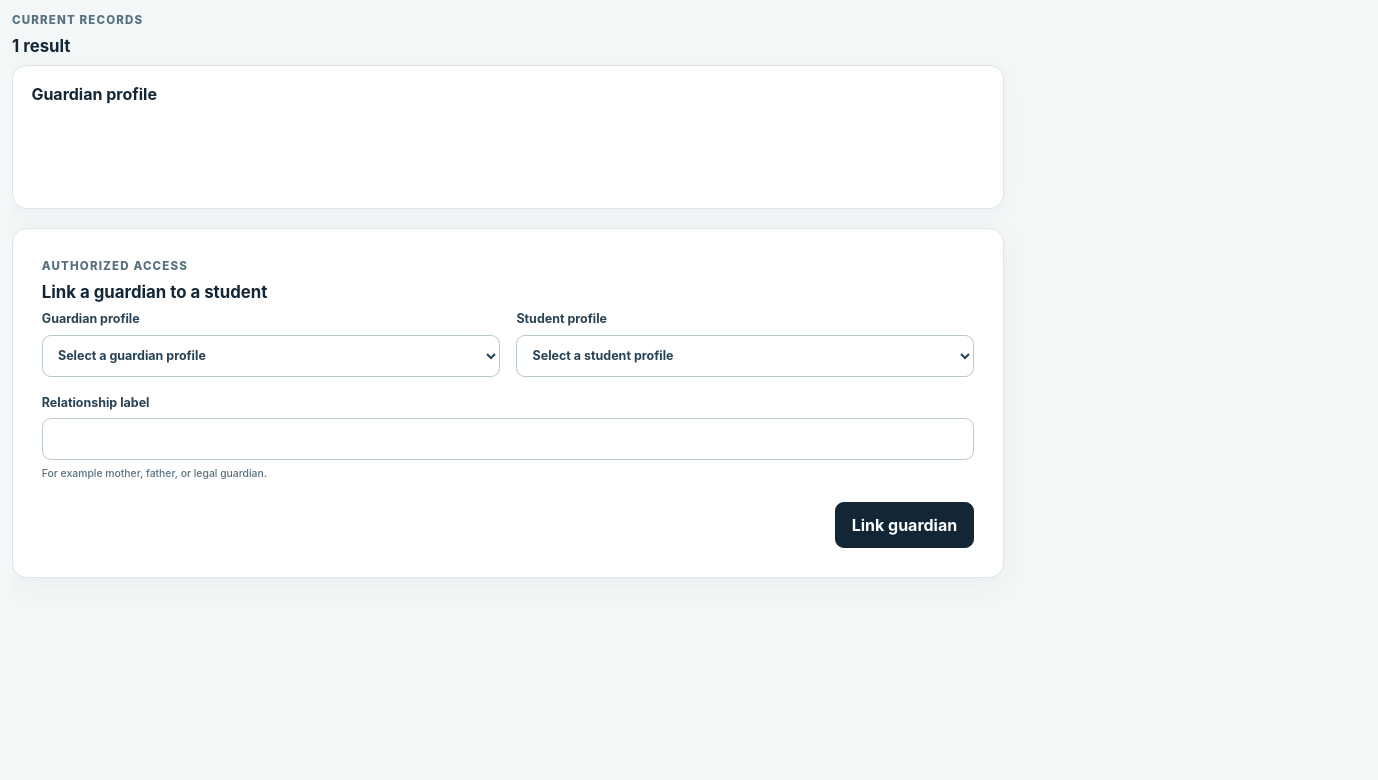
Test case: GuardianAdministration › links a guardian profile to a student profile
The image size is (1378, 780).
Select "Guardian profile · guardian" in the dropdown labelled "Guardian profile" at (271, 356), box [42,334,500,377]
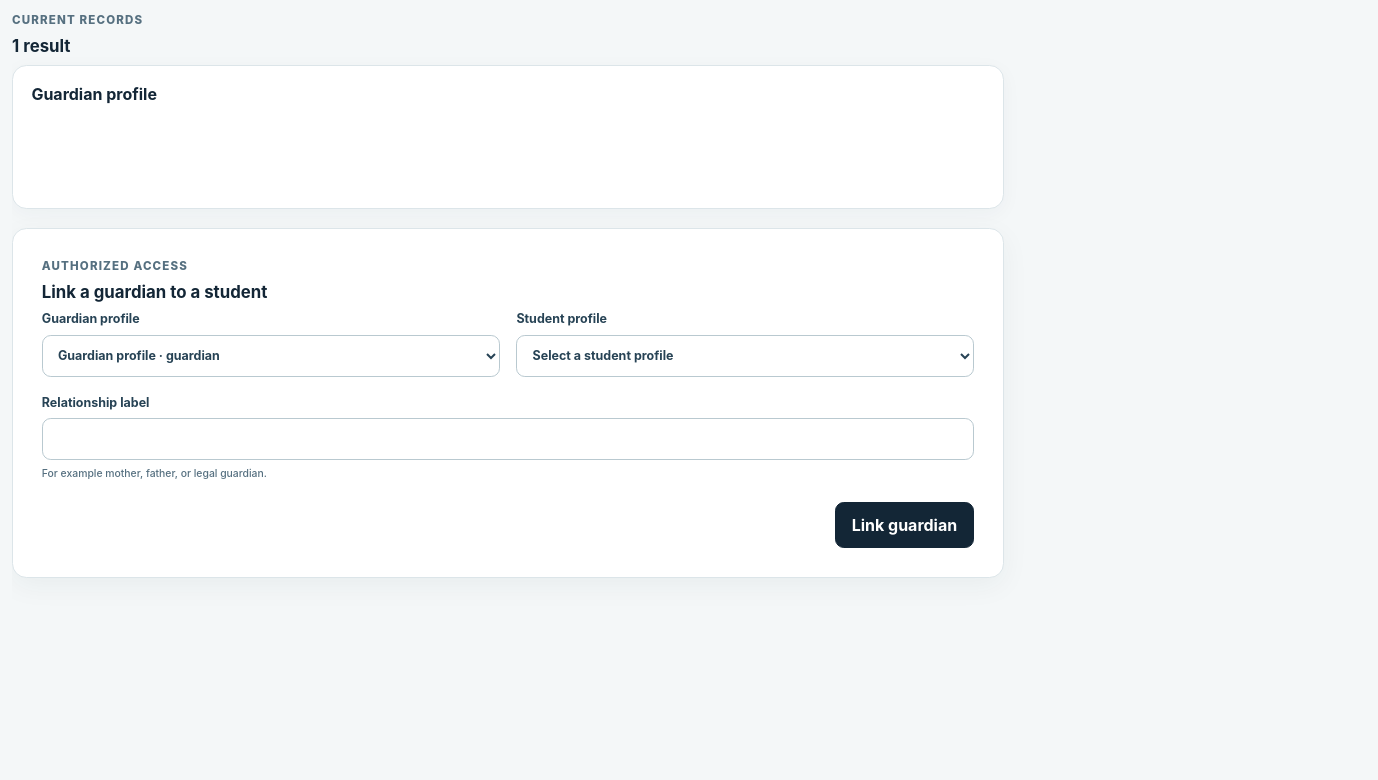
Select "Student profile · student-" in the dropdown labelled "Student profile" at (745, 356), box [516,334,974,377]
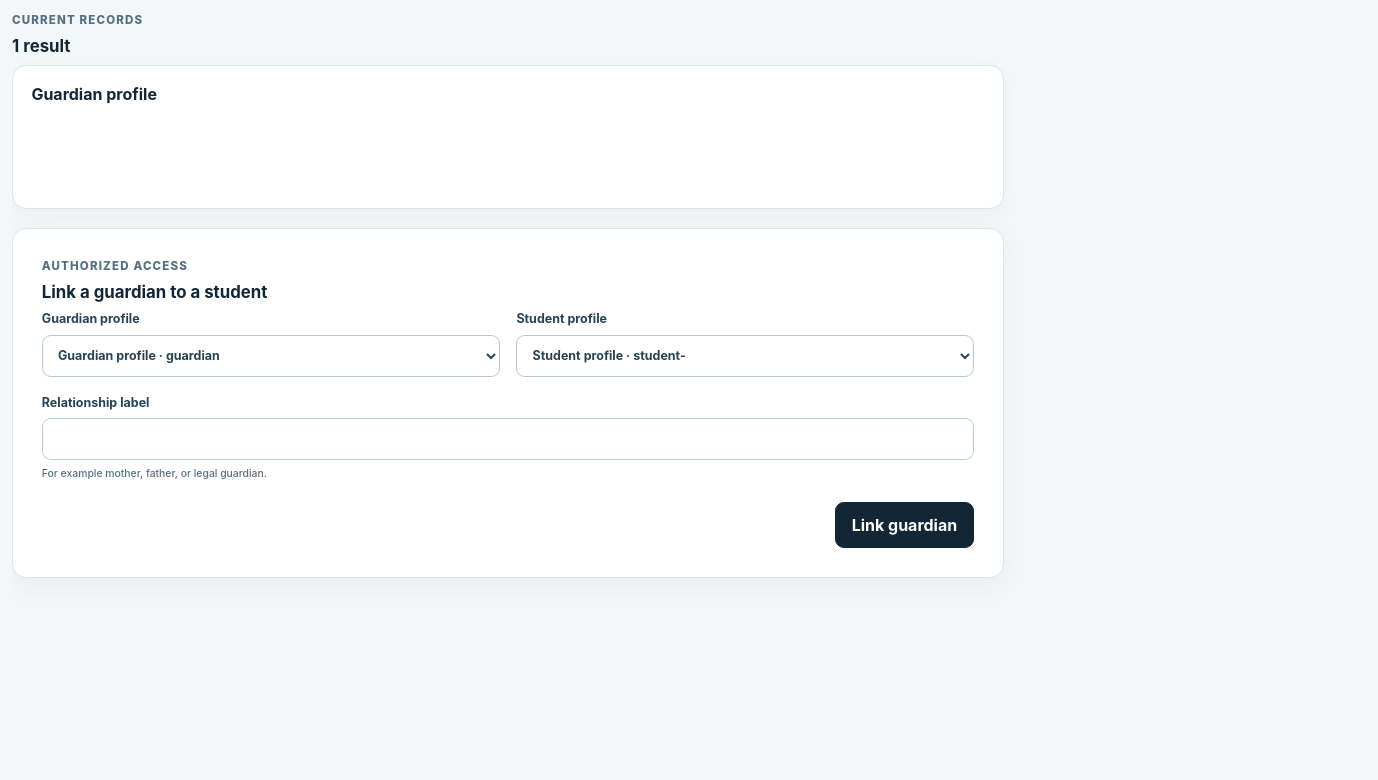
Type "mother" into the field labelled "Relationship label" at (508, 439), box [42,418,974,460]
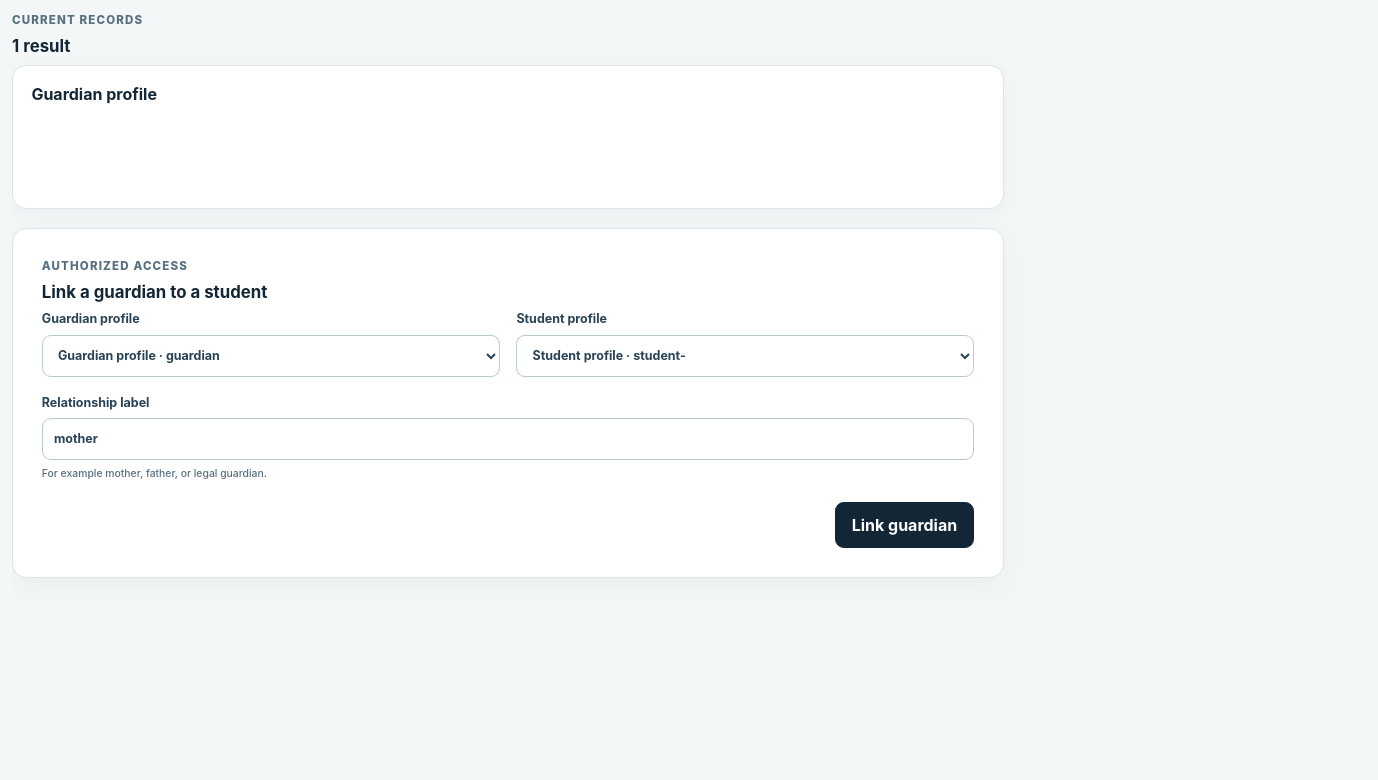
Click the button "Link guardian" at (904, 525), box [835,502,974,548]
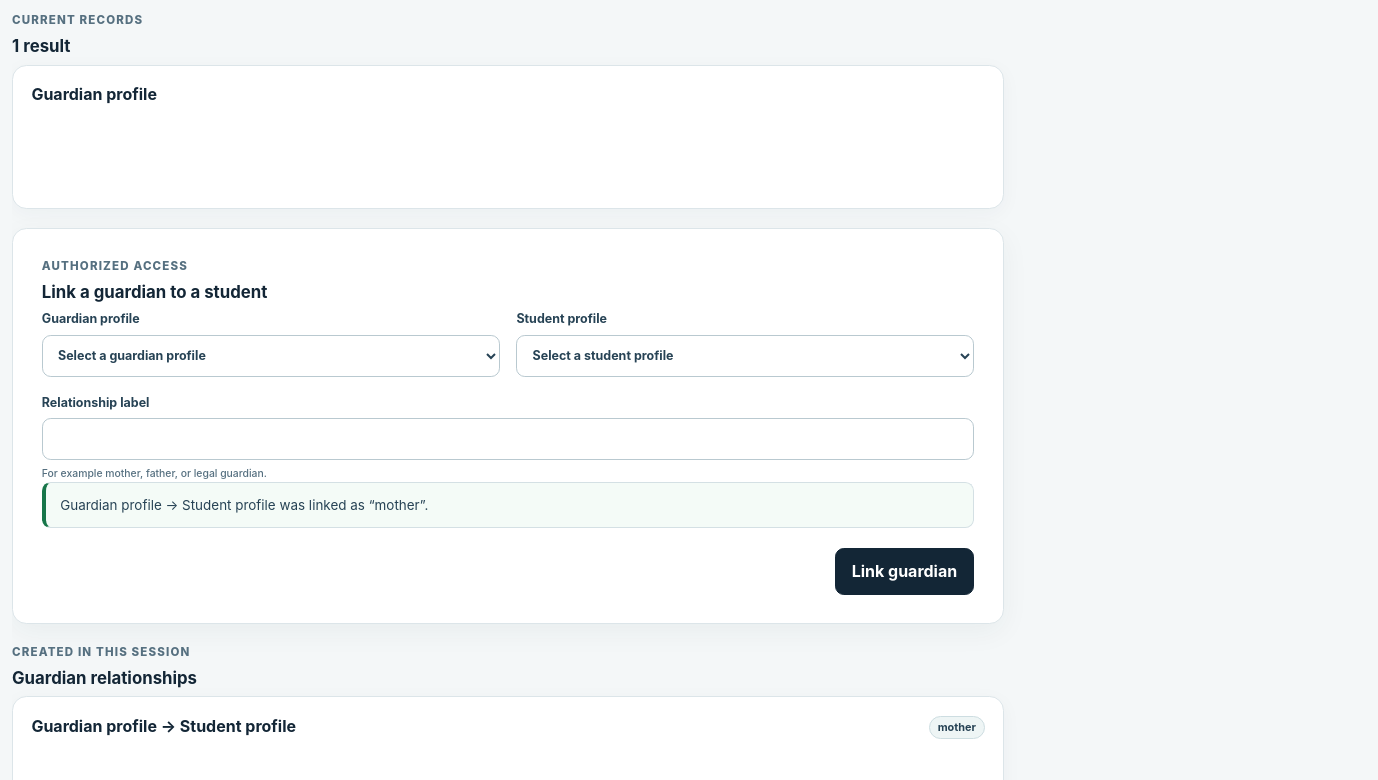
Result: the text "Guardian profile → Student profile was linked as “mother”." is shown at [42,482,974,528]
Result: the text "mother" is shown at [929,716,985,739]
